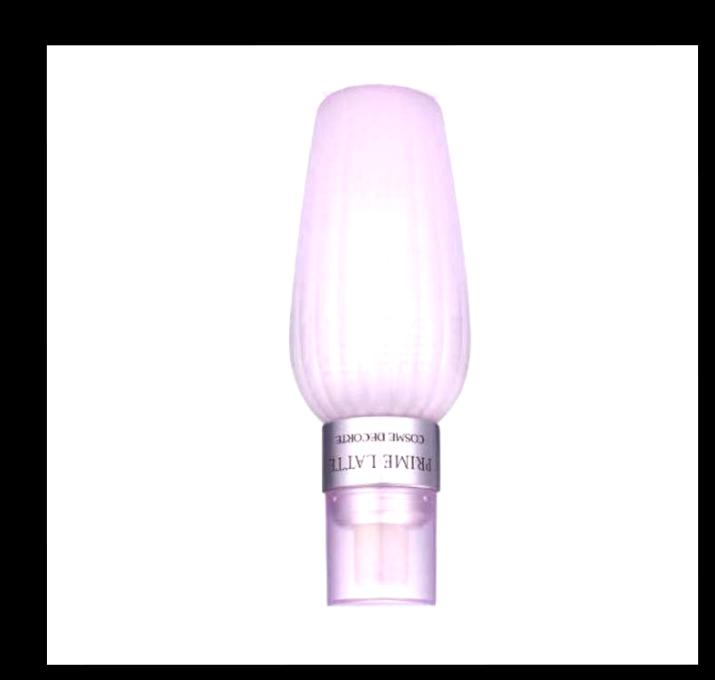cosmetic: (294, 79, 457, 612)
